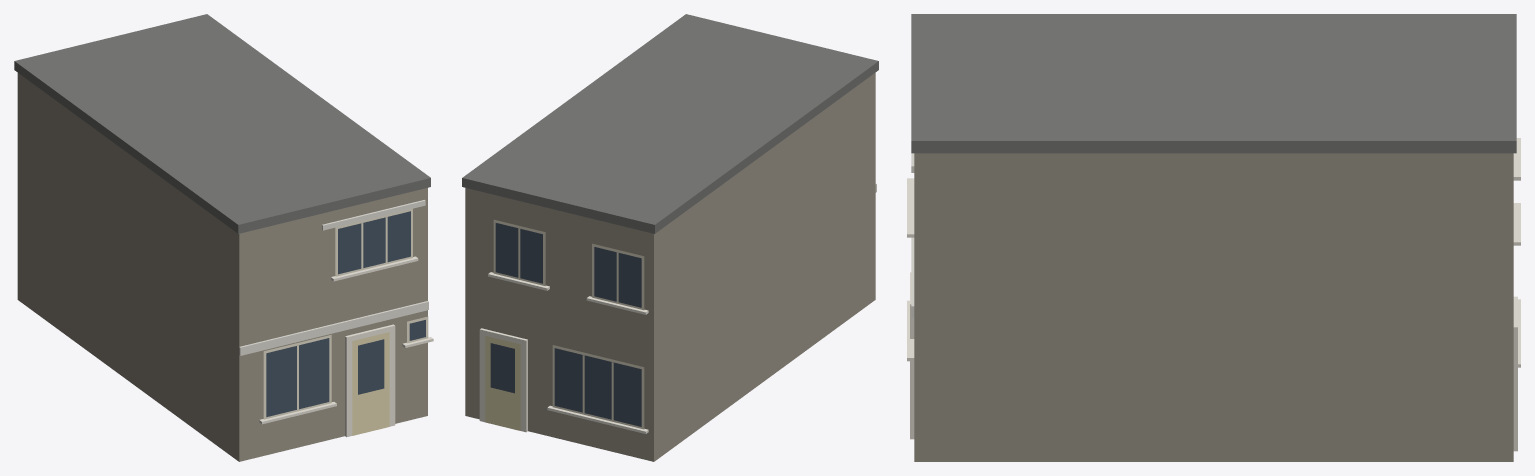
The model's file is zo-rb-flat-band__grey__2__flat__long__solid.glb.
The picture shows the model from 3 angles, left to right: view 1: azimuth 30°, elevation 25°; view 2: azimuth 150°, elevation 25°; view 3: azimuth 270°, elevation 25°; orthographic projection. The views are drawn at different scales.
Visible parts, largest first — view 1: zo-rb-flat-band__grey__2__flat__long__solid; view 2: zo-rb-flat-band__grey__2__flat__long__solid; view 3: zo-rb-flat-band__grey__2__flat__long__solid.
Boxes of the visible parts, x1=… form: zo-rb-flat-band__grey__2__flat__long__solid: x1=14, y1=14, x2=433, y2=461; zo-rb-flat-band__grey__2__flat__long__solid: x1=462, y1=14, x2=878, y2=461; zo-rb-flat-band__grey__2__flat__long__solid: x1=907, y1=14, x2=1520, y2=461.
Bounding box in the file's own units: 4.91 × 5.77 × 9.97.
